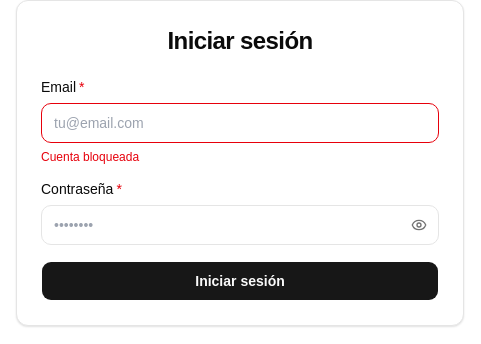
a server field error shows until its field is edited
In the field labelled "Email*": [240, 123] box [41,103,439,143], type "a"
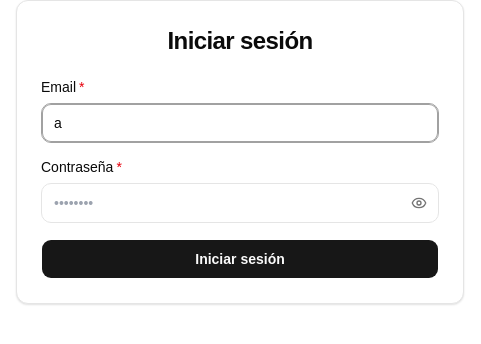
Expected: the text "Cuenta bloqueada" is gone
